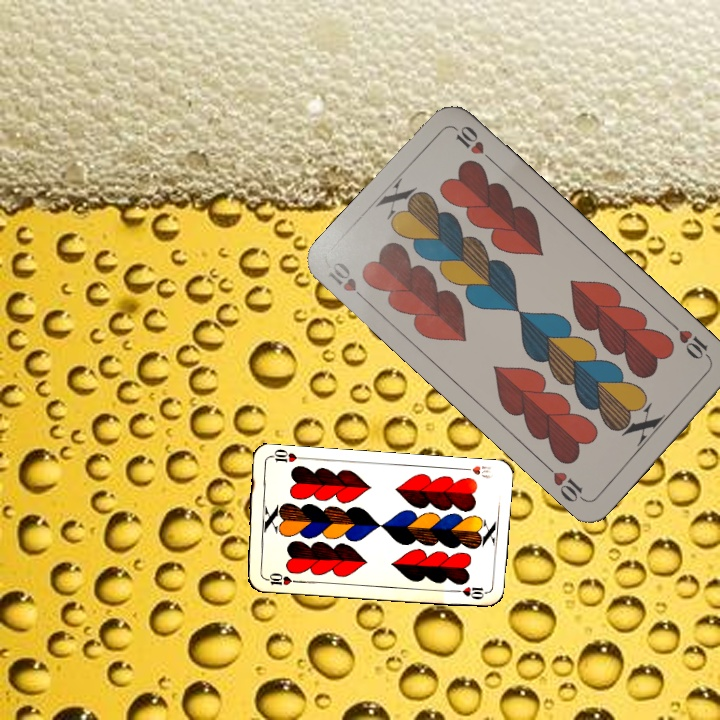H10: (324, 257, 372, 308), (666, 319, 714, 363), (259, 568, 300, 588), (456, 461, 495, 481)
